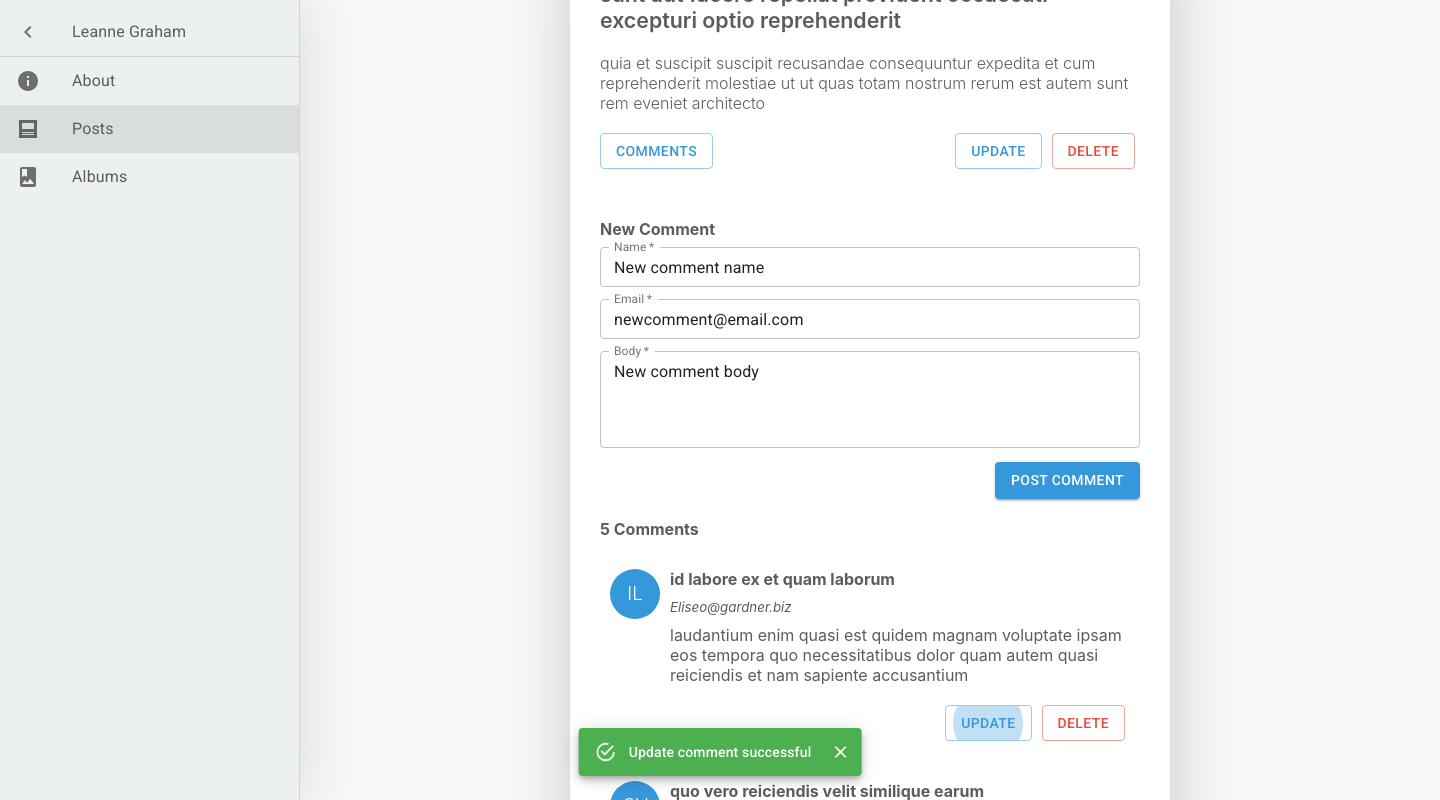
Comments › Delete a comment
(page scrolled)
Click the button with test id "comment-card-delete-button". click: {"x": 1084, "y": 724}
box: [1042, 705, 1126, 742]
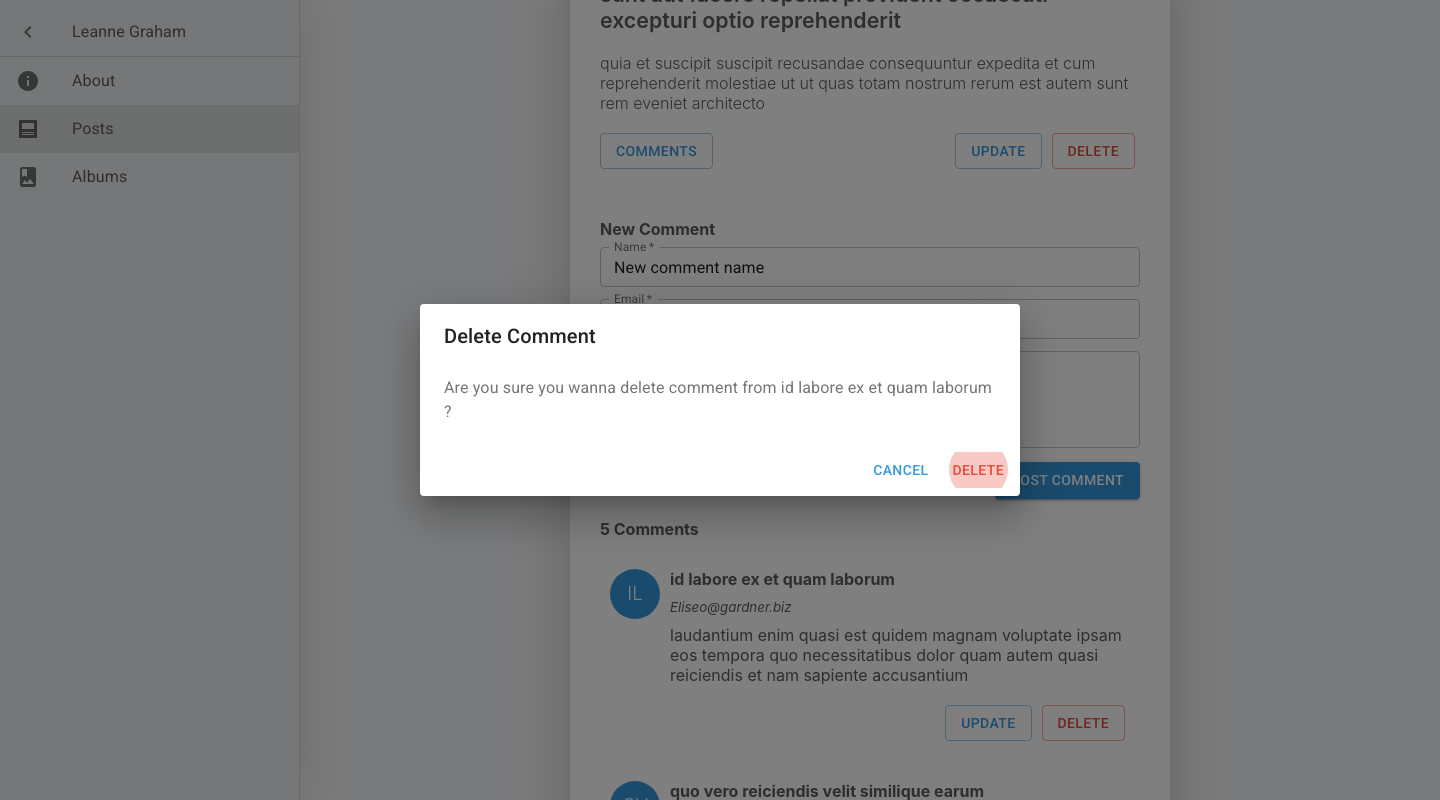
Now the element with test id "delete-comment-dialog" is shown
Click the button with test id "delete-comment-dialog-delete-button". click: {"x": 979, "y": 471}
box: [945, 452, 1013, 489]
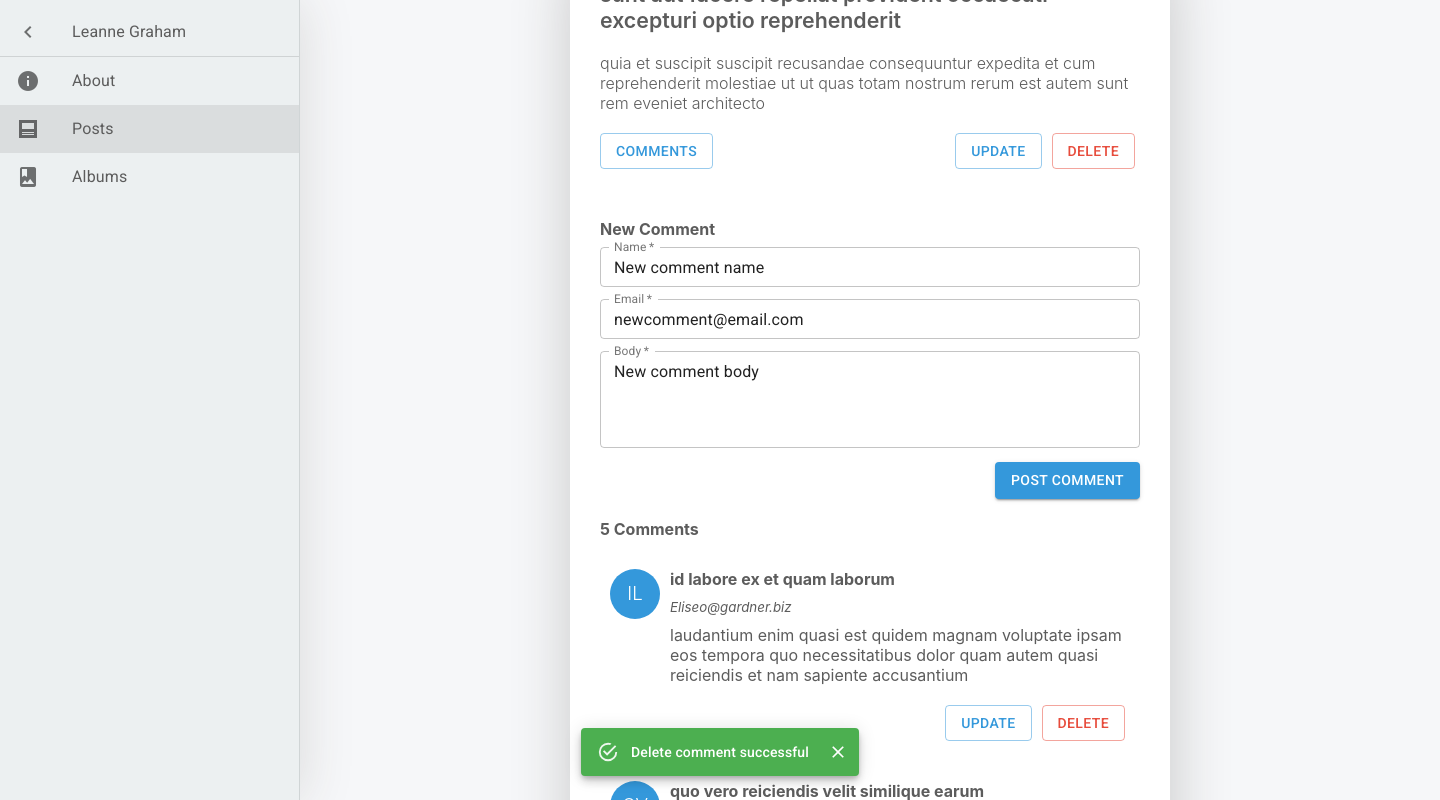
Now the text "Delete comment successful" is shown, box [631, 744, 809, 760]
